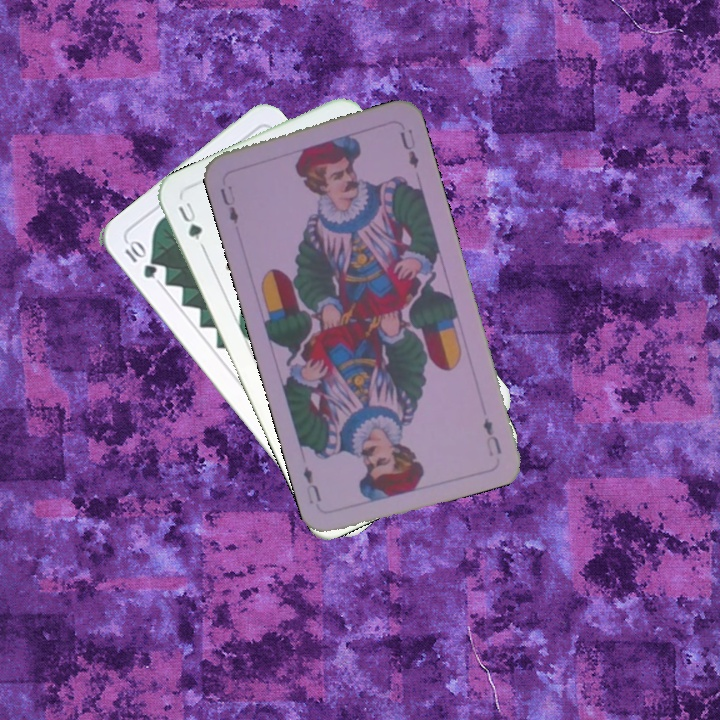EU: (216, 181, 242, 227), (479, 414, 504, 459)
G10: (120, 236, 160, 282)
GU: (174, 198, 207, 252)
